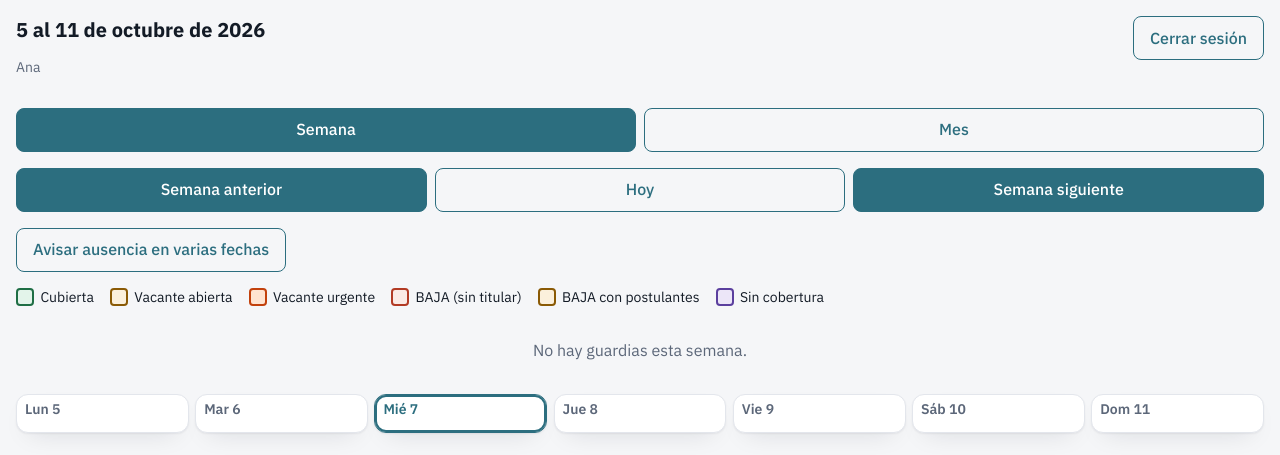
Test: Calendario › navega a la semana siguiente, a la anterior y vuelve a hoy
The image size is (1280, 455).
Expected: the heading "5 al 11 de octubre de 2026" is shown, [16,16,265,44]
Click the button "Semana siguiente": {"x": 1059, "y": 190} [853,168,1264,212]
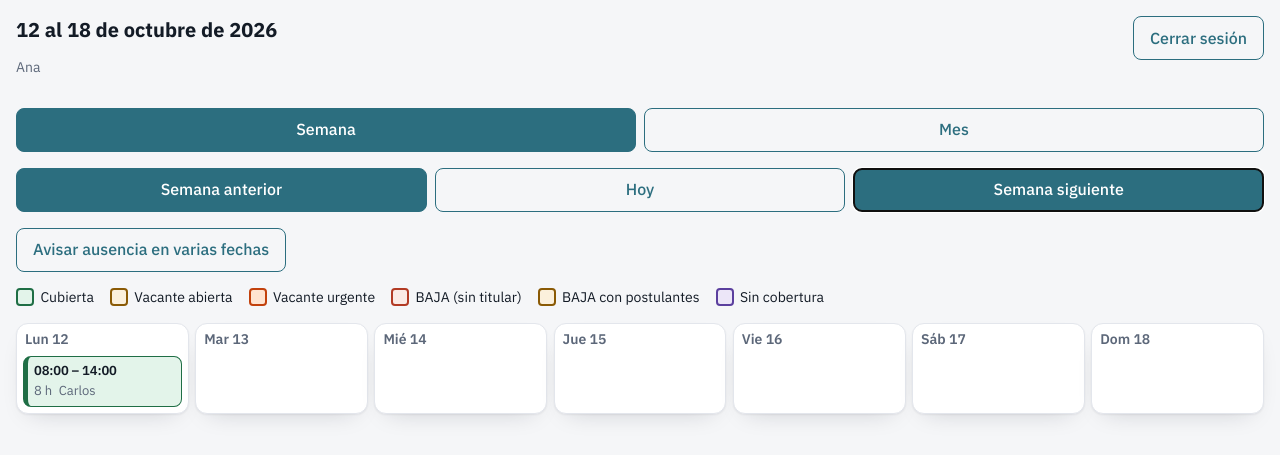
Result: the heading "12 al 18 de octubre de 2026" is shown at [16,16,277,44]
Result: the text "Carlos" is shown at [59,382,96,399]
Click the button "Hoy": {"x": 640, "y": 190} [435,168,845,212]
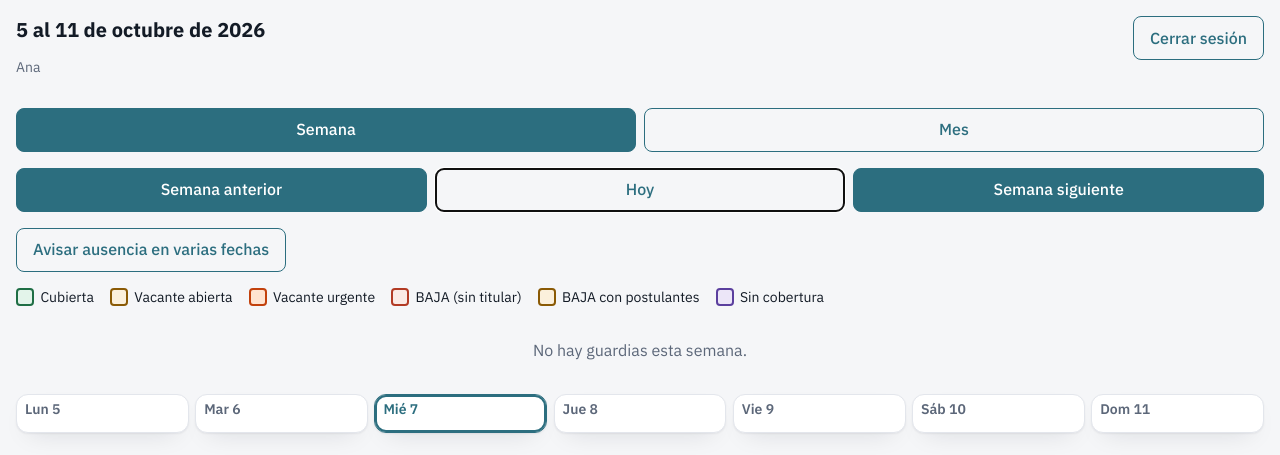
Result: the heading "5 al 11 de octubre de 2026" is shown at [16,16,265,44]
Click the button "Semana anterior": {"x": 221, "y": 190} [16,168,427,212]
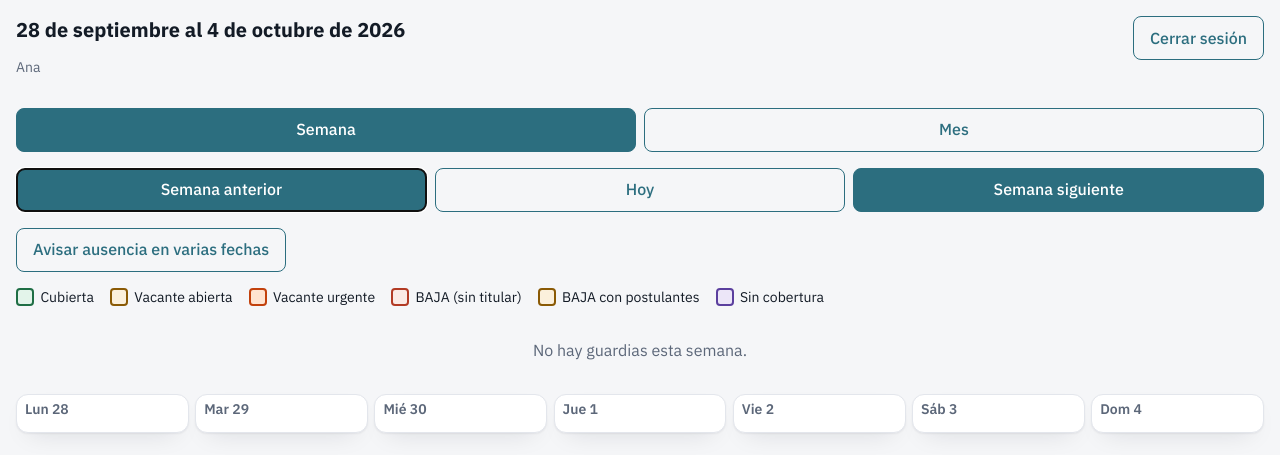
Result: the heading "28 de septiembre al 4 de octubre de 2026" is shown at [16,16,405,44]
